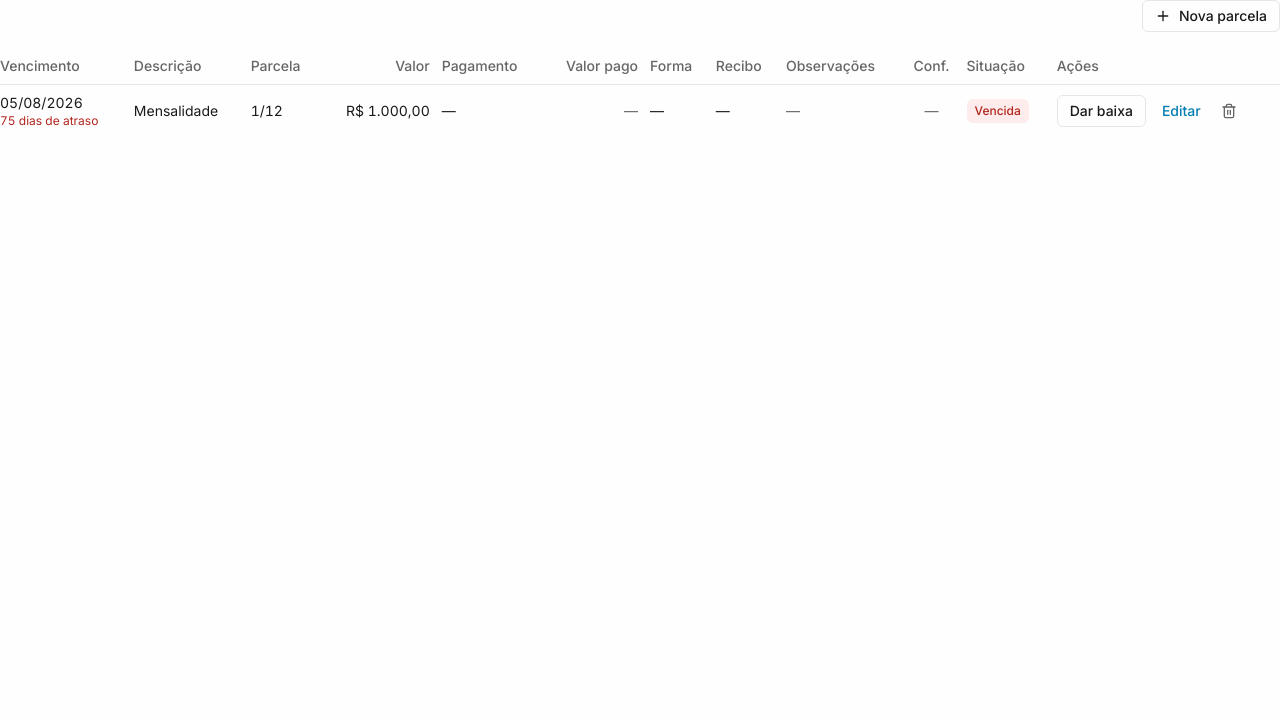
it: Extrato › a baixa começa com o valor devido preenchido
Click the button "Dar baixa" at (1101,111), box left=1057, top=95, right=1146, bottom=127
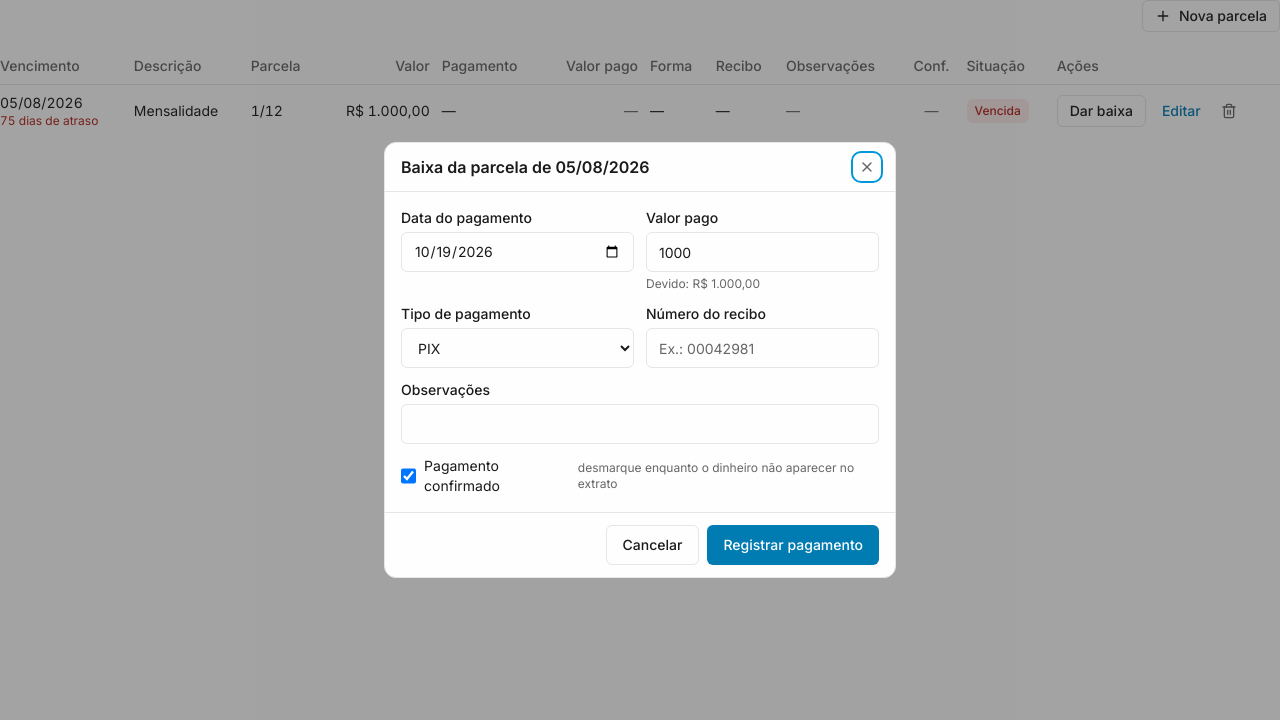
Check: the field labelled "Valor pago" holds "1000", box left=646, top=232, right=879, bottom=272
